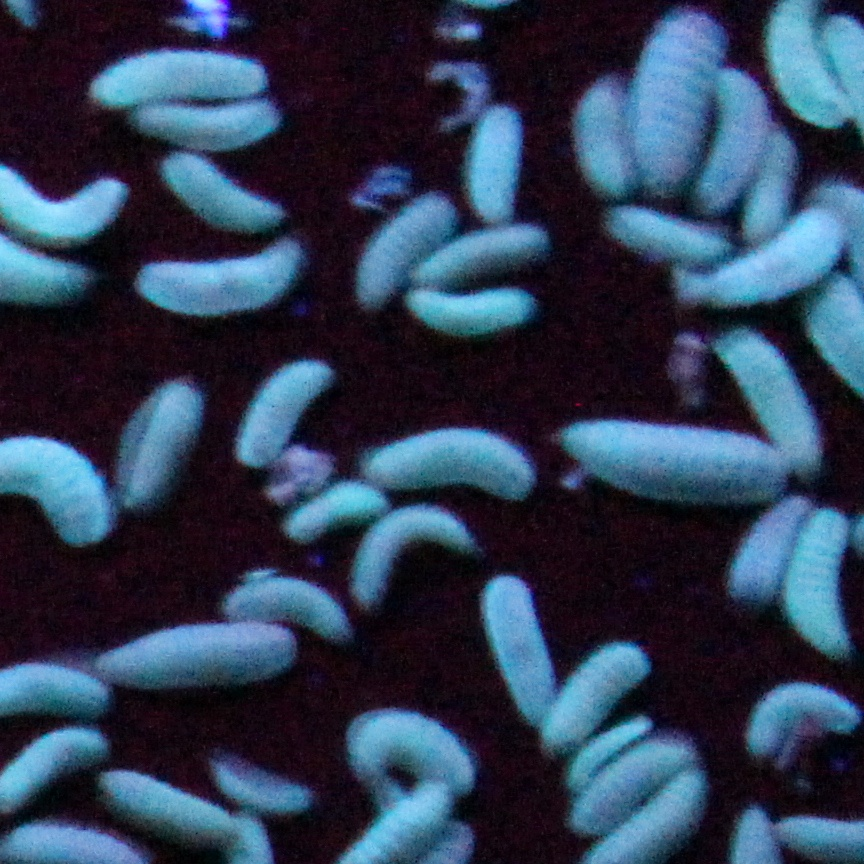larve: (572, 424, 771, 487), (734, 335, 814, 459), (648, 20, 704, 194), (693, 226, 816, 301), (104, 635, 292, 682), (378, 440, 537, 494), (362, 505, 462, 585), (357, 712, 469, 782), (121, 391, 200, 489), (150, 254, 297, 306), (106, 771, 221, 835), (586, 747, 674, 829), (172, 161, 274, 229), (495, 584, 553, 701), (558, 643, 634, 729), (799, 515, 850, 642), (250, 359, 321, 449), (372, 191, 437, 280), (607, 208, 716, 261), (95, 63, 246, 101), (420, 280, 539, 326), (236, 582, 334, 635), (434, 219, 539, 268), (579, 94, 630, 194), (295, 489, 385, 542), (139, 103, 286, 135), (736, 501, 790, 587), (716, 84, 757, 196), (474, 110, 518, 210), (748, 145, 799, 231), (755, 691, 851, 733), (576, 719, 637, 784), (223, 768, 306, 812)
